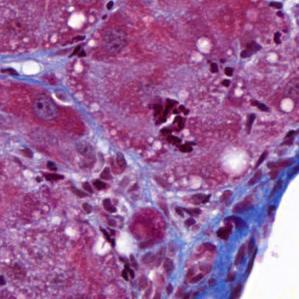inflammation: (147, 94, 196, 153), (84, 172, 123, 219), (213, 213, 250, 246), (36, 158, 67, 189)
